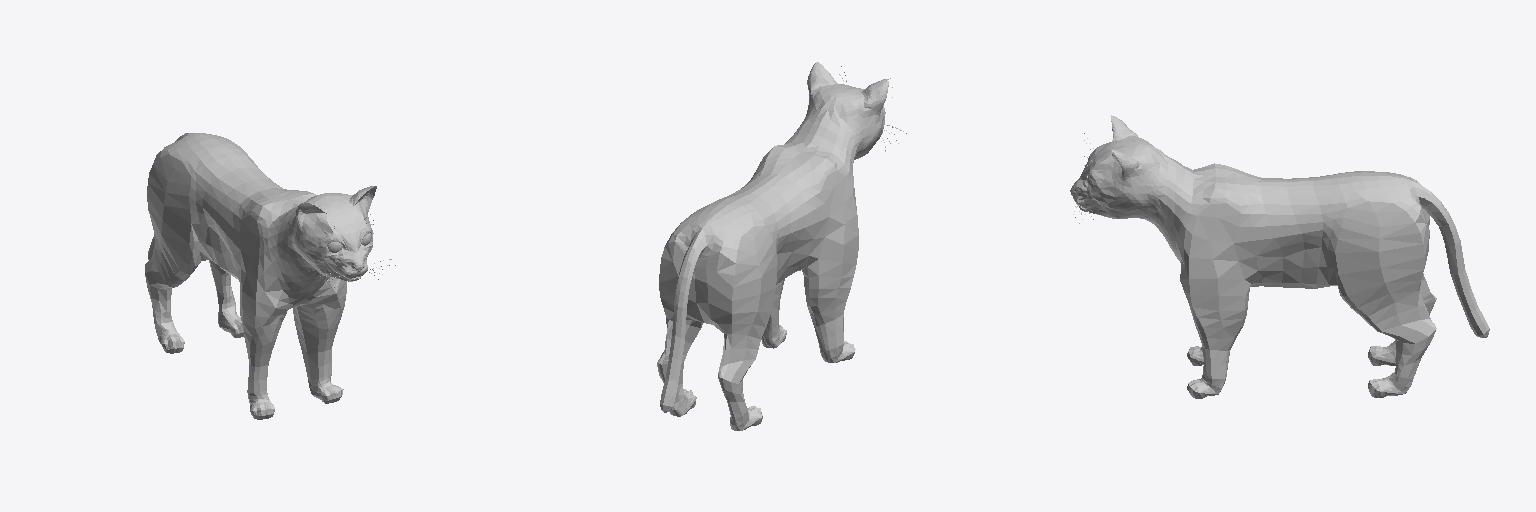
The model's file is CAT_CLCO.OBJ.
The picture shows the model from 3 angles: view 1: azimuth 30°, elevation 25°; view 2: azimuth 150°, elevation 25°; view 3: azimuth 270°, elevation 25°; orthographic projection.
Parts seen in each view (by area): view 1: ccat_body; view 2: ccat_body; view 3: ccat_body.
Boxes of the visible parts, x1=… form: ccat_body: x1=145, y1=133, x2=376, y2=419; ccat_body: x1=657, y1=62, x2=888, y2=430; ccat_body: x1=1070, y1=115, x2=1489, y2=398.
Bounding box in the file's own units: 0.1281 × 0.3282 × 0.5052.